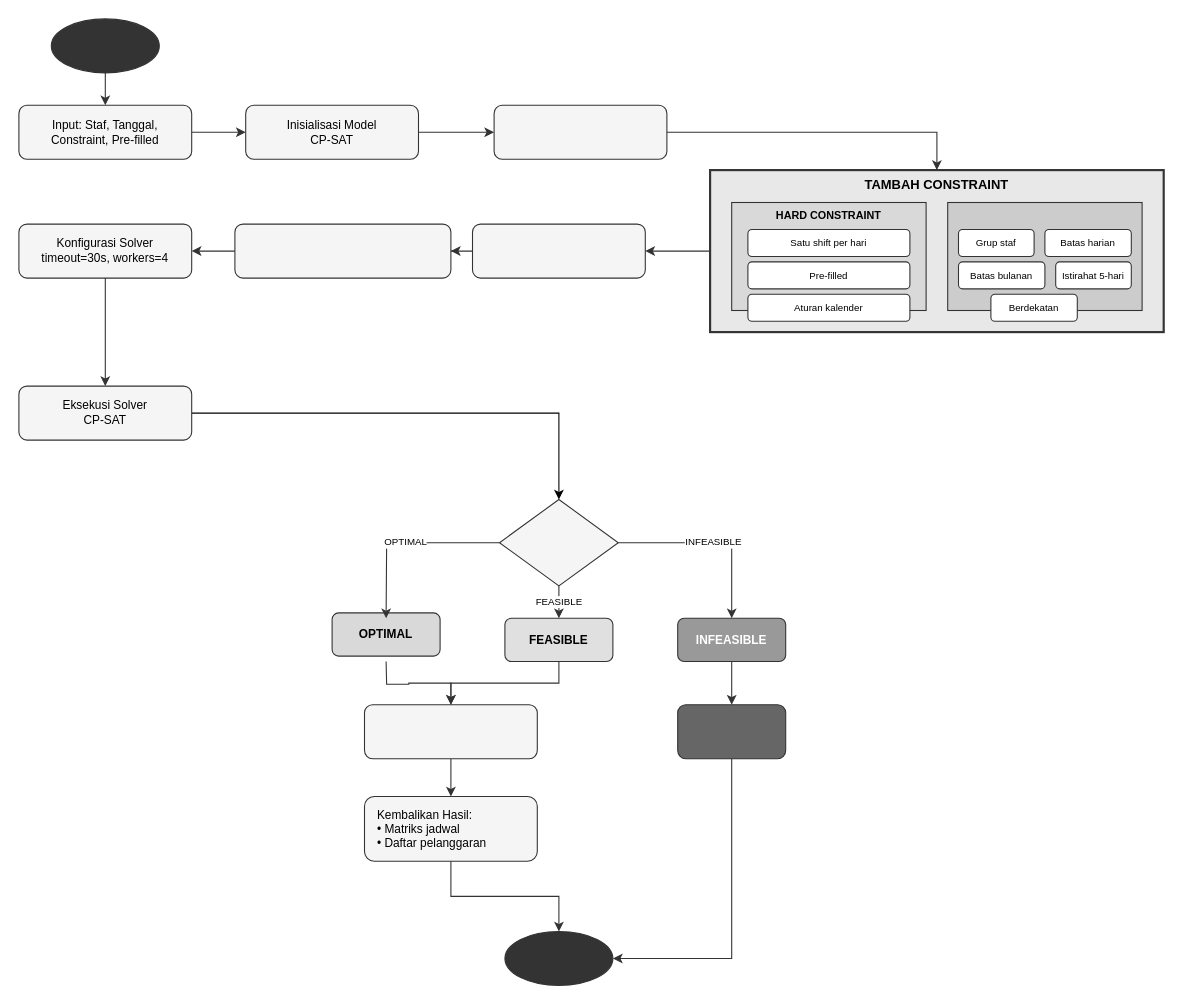
The diagram is 1184 pixels wide and 1004 high, and some of its shapes have lost their labels. The box of each missing label's shape, as (x1, y1, x2, y2) in pixels:
Bangun Fungsi Objektif Minimasi Σ(bobot × pelanggaran): (234, 223, 451, 278)
Buat Variabel Keputusan shifts[s,d,t] ∈ {0,1}: (493, 104, 667, 159)
Buat Variabel Pelanggaran Lacak penalti: (471, 223, 645, 278)
Ekstrak Solusi Petakan ke simbol shift: (363, 704, 537, 759)
Kembalikan Error: (677, 704, 786, 759)
MULAI: (50, 18, 159, 73)
SELESAI: (504, 930, 613, 986)
SOFT CONSTRAINT: (947, 201, 1142, 310)
Status?: (498, 498, 618, 586)
